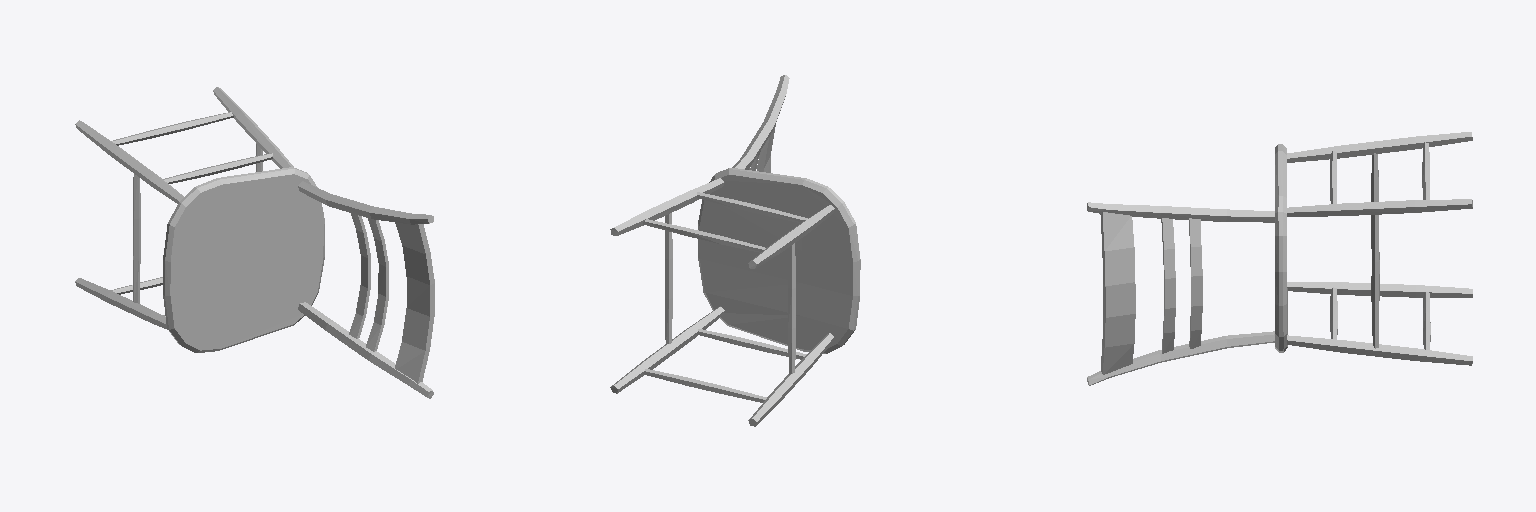
The model's file is chair01.obj.
3 views of the same model, side by side, from view 1: azimuth 30°, elevation 25°; view 2: azimuth 150°, elevation 25°; view 3: azimuth 270°, elevation 25° (orthographic).
Visible parts, largest first — view 1: chair01; view 2: chair01; view 3: chair01.
Part boxes in pixels (left/top/right/bottom): chair01: left=75, top=87, right=434, bottom=398; chair01: left=610, top=75, right=860, bottom=426; chair01: left=1087, top=132, right=1472, bottom=385.
Size of the model in its own units: 23.48 by 22.55 by 42.86.